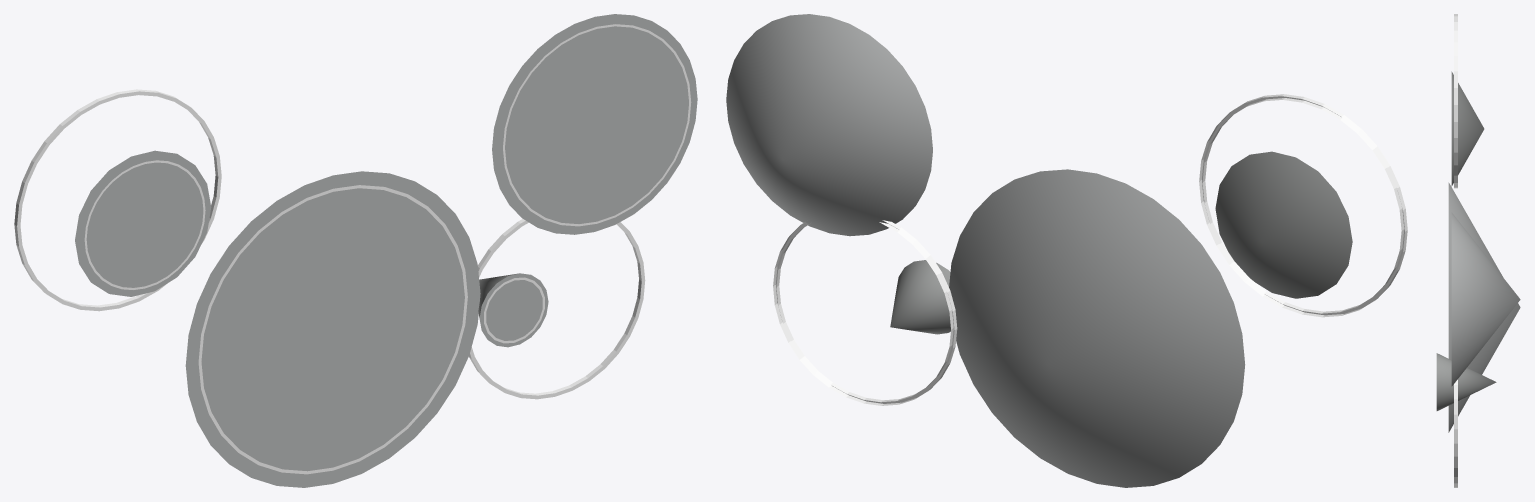
The model's file is M_zhuangshiqiang01.FBX.
3 renders of one model, left to right at view 1: azimuth 30°, elevation 25°; view 2: azimuth 150°, elevation 25°; view 3: azimuth 270°, elevation 25°, orthographic. The views are drawn at different scales.
Parts seen in each view (by area): view 1: M_zhuangshiqiang01_01, M_zhuangshiqiang01_02; view 2: M_zhuangshiqiang01_01, M_zhuangshiqiang01_02; view 3: M_zhuangshiqiang01_01, M_zhuangshiqiang01_02.
Boxes of the visible parts, x1,y1,x2,y2 form: M_zhuangshiqiang01_01: (75,14,697,487); M_zhuangshiqiang01_02: (14,24,691,474); M_zhuangshiqiang01_01: (726,14,1352,487); M_zhuangshiqiang01_02: (773,94,1407,405); M_zhuangshiqiang01_01: (1436,71,1520,432); M_zhuangshiqiang01_02: (1454,14,1457,487).
Bounding box in the file's own units: 4.61 × 2.85 × 0.6725.
